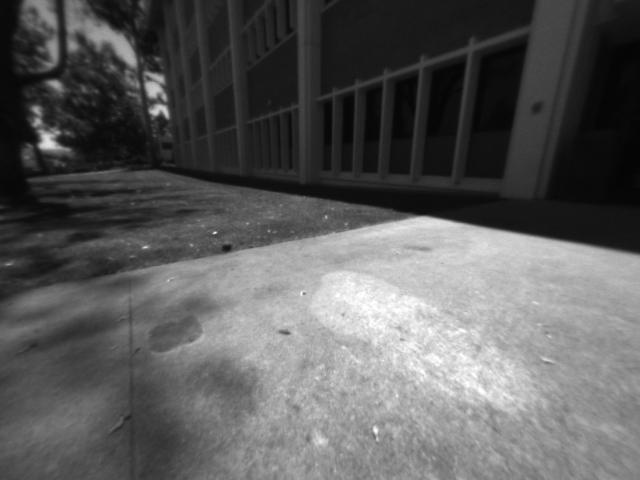dogtoy: (215, 233, 240, 256)
